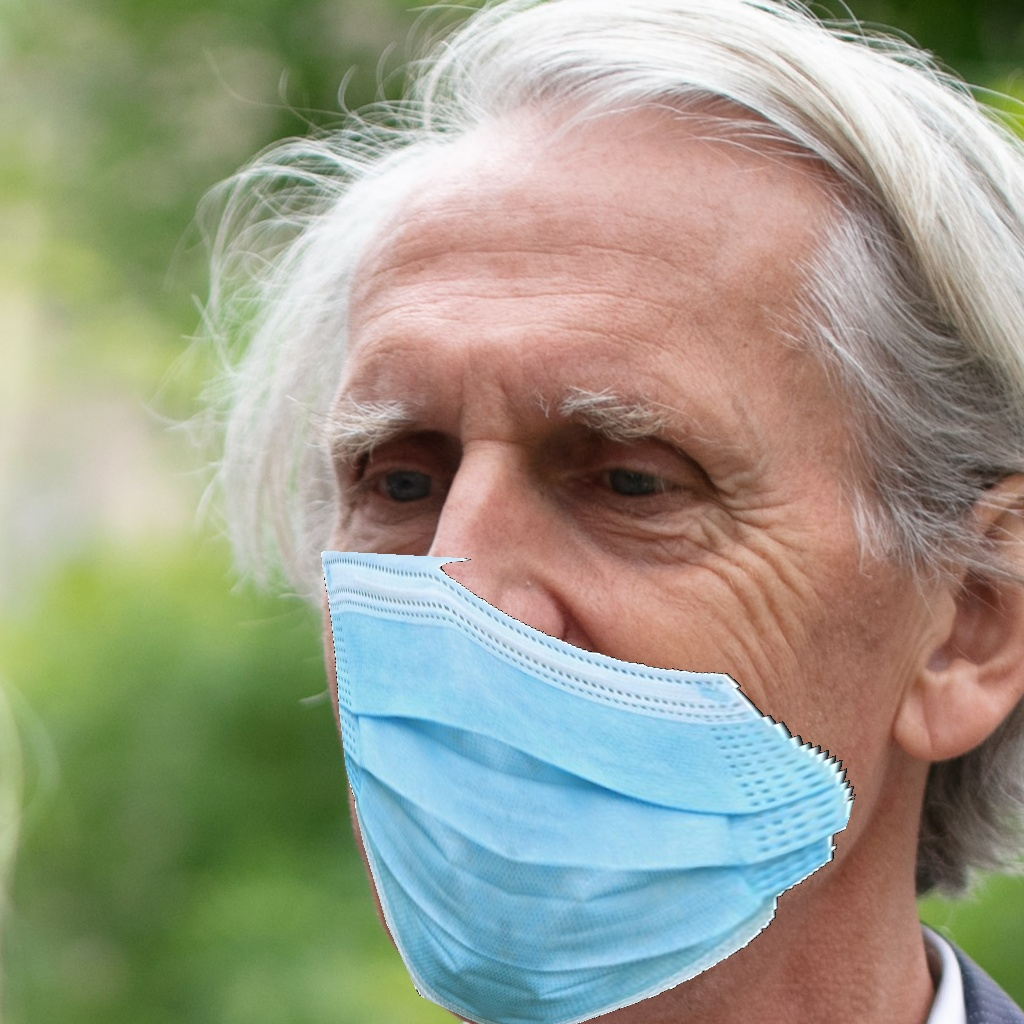Mask: (318, 301, 864, 1024)
